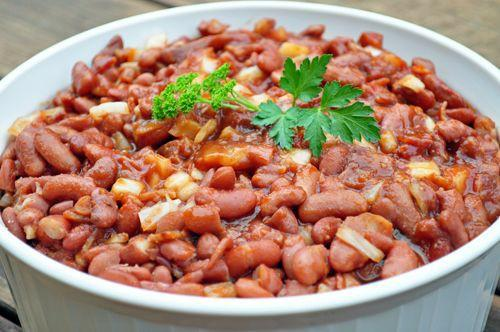RajmaCurry: (0, 17, 500, 300)
